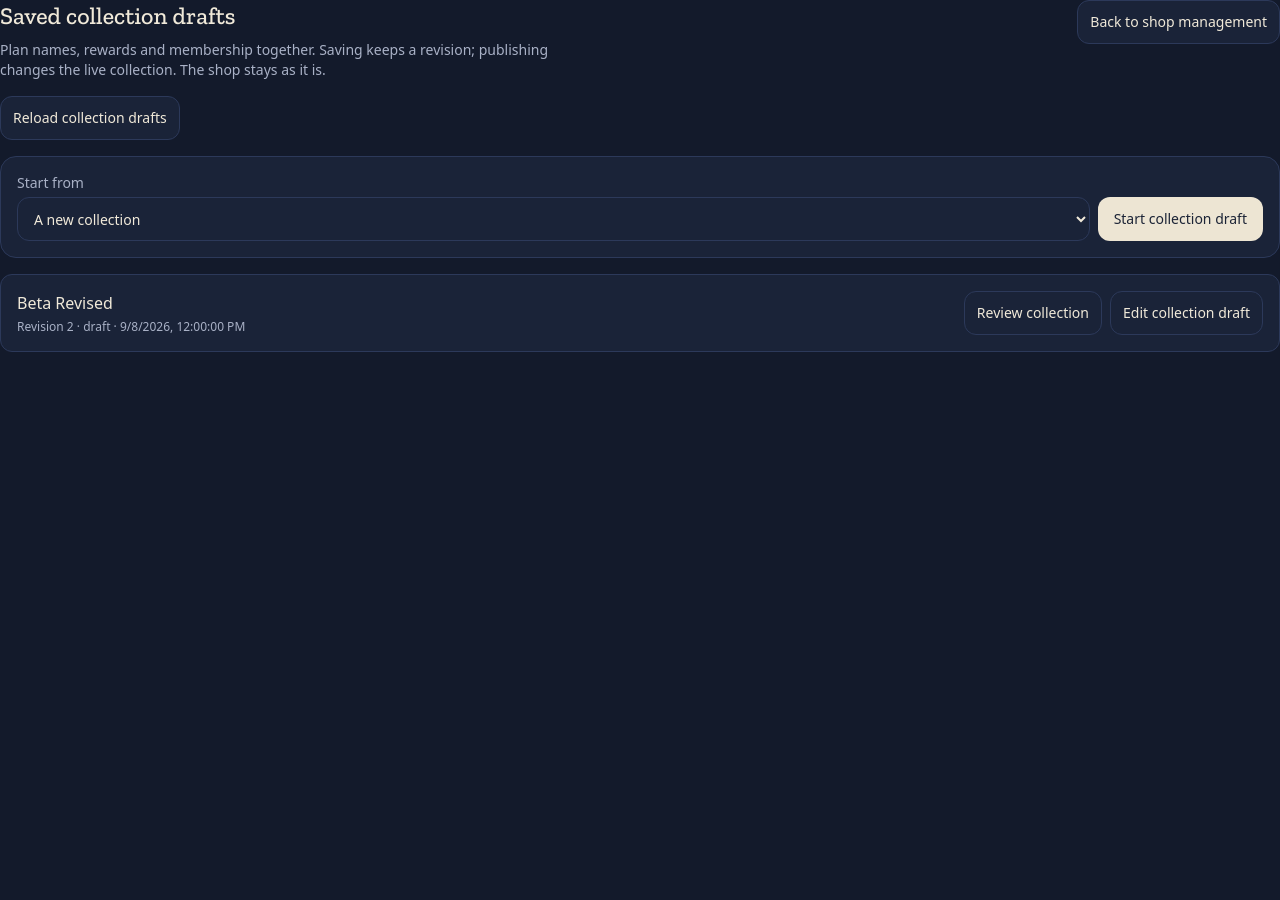
Test: saved collection manager › requires acknowledgment and confirmation before publishing the reviewed revision
Expected: the text "Revision 2 · draft · 9/8/2026, 12:00:00 PM" is shown, [17,319,245,335]
Click the button "Review collection" at (1033, 313), box [964,291,1102,335]
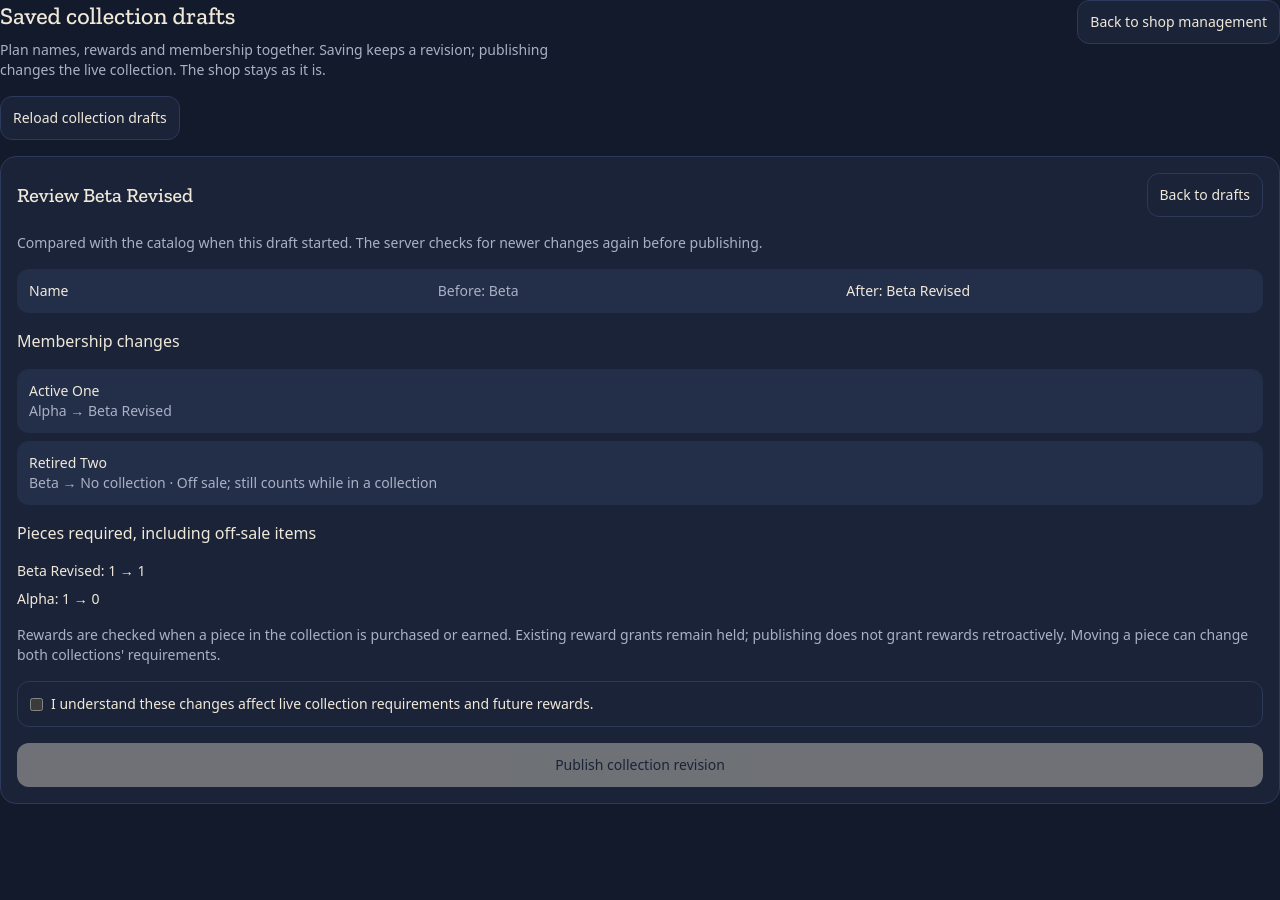
Expected: the list item "Alpha: 1 → 0" is shown, [17,589,99,608]
Expected: the list item "Beta Revised: 1 → 1" is shown, [17,561,146,580]
Expected: the heading "Pieces required, including off-sale items" is shown, [17,522,316,544]
Click the checkbox at (36, 704), box [30,698,43,711]
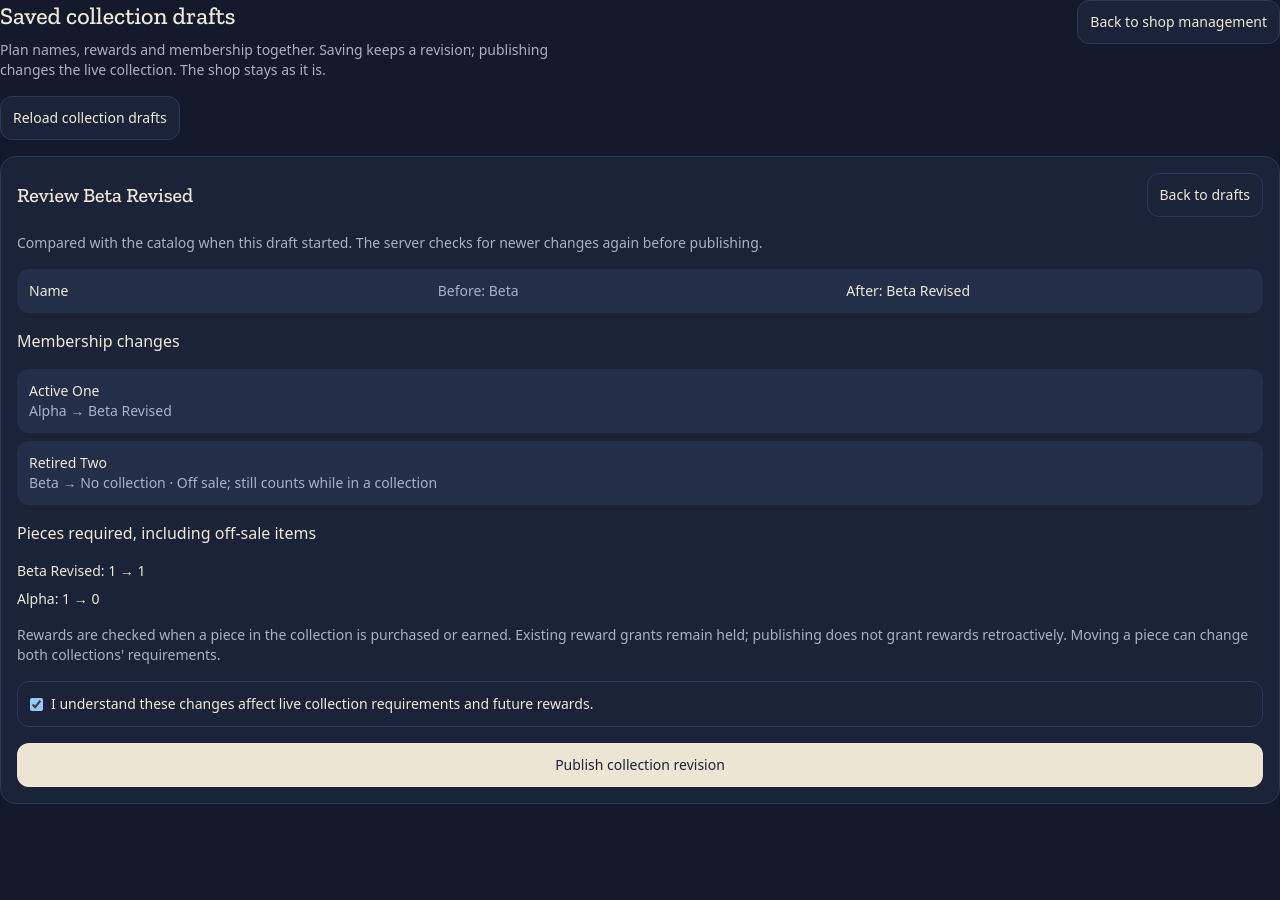
Click the button "Publish collection revision" at (640, 765), box [17,743,1263,787]
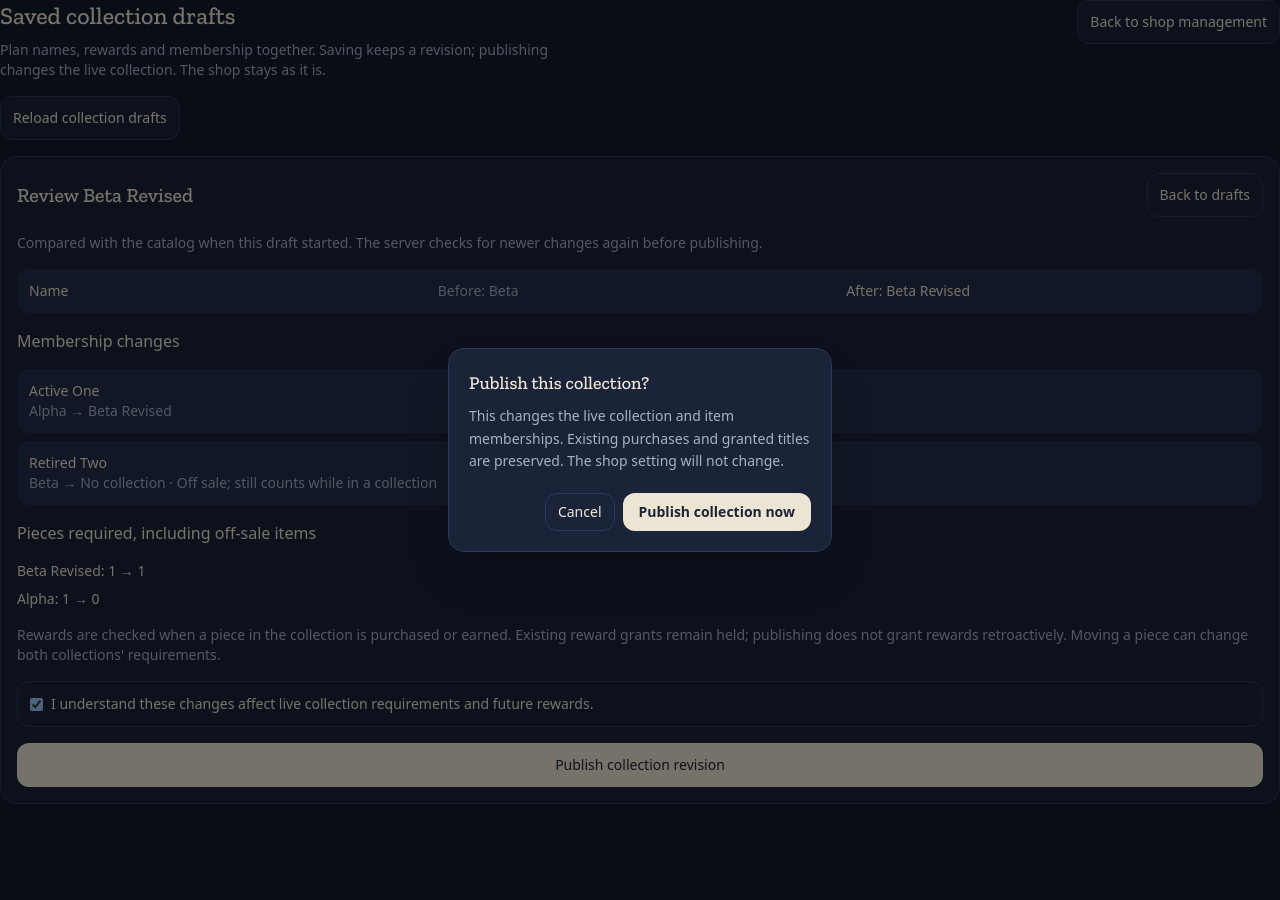
Click the button "Publish collection now" at (717, 512), box [622,493,811,531]
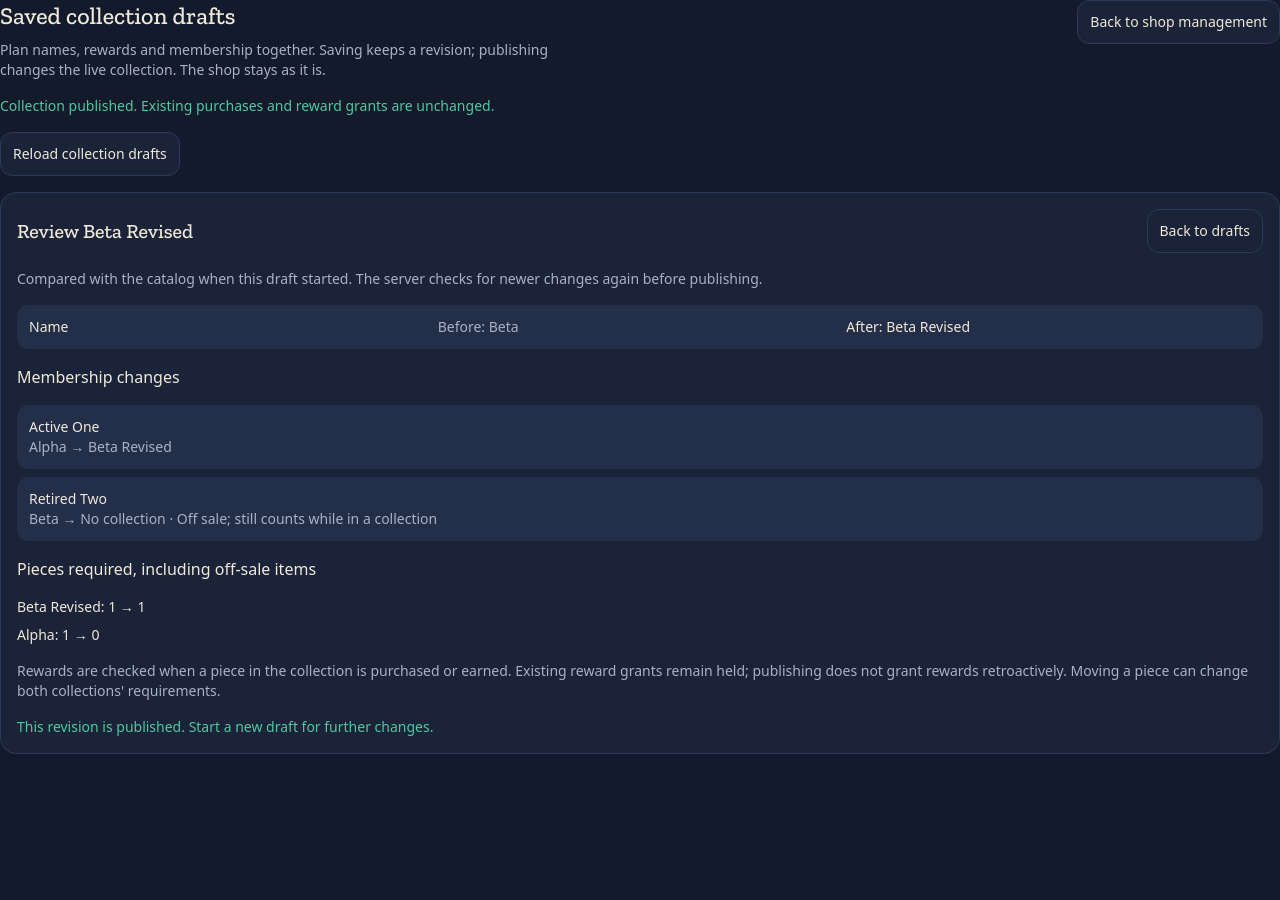
Expected: the text "Collection published. Existing purchases and reward grants are unchanged." is shown, [0,96,494,115]
